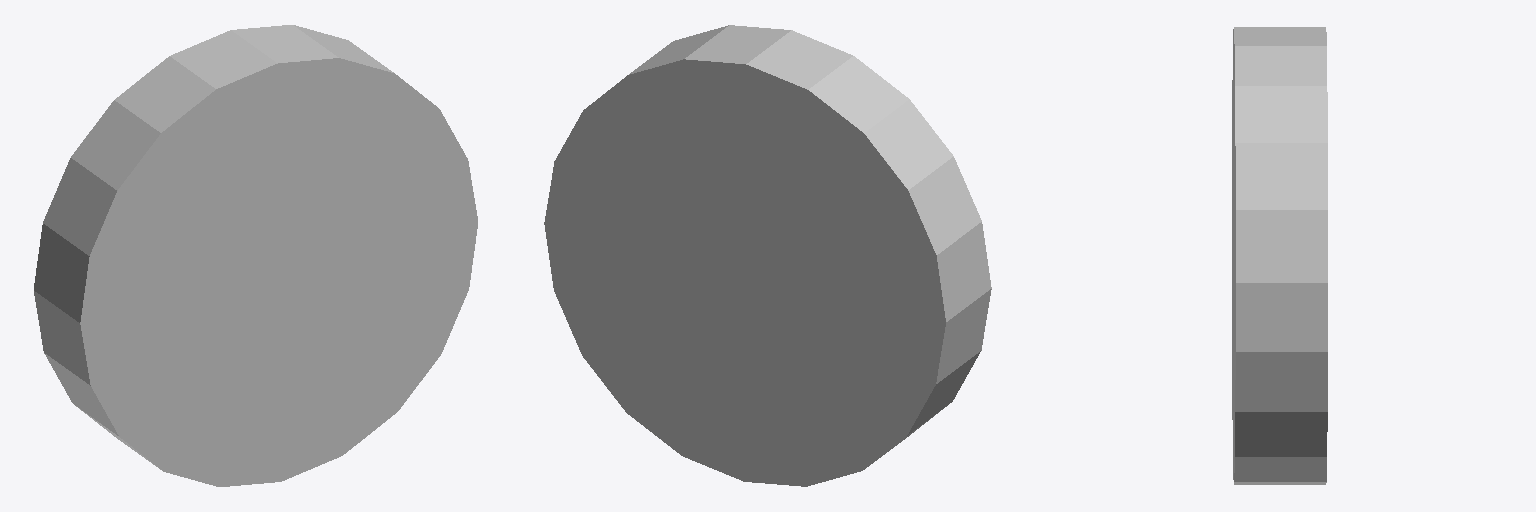
The model's file is coin.obj.
3 renders of one model, left to right at view 1: azimuth 30°, elevation 25°; view 2: azimuth 150°, elevation 25°; view 3: azimuth 270°, elevation 25°, orthographic.
Visible parts, largest first — view 1: pCylinder1; view 2: pCylinder1; view 3: pCylinder1.
Boxes of the visible parts, box(x1,y1,x2,y2) form: pCylinder1: box(34, 25, 477, 486); pCylinder1: box(544, 25, 991, 486); pCylinder1: box(1232, 27, 1327, 484).
Size of the model in its own units: 5.01 by 5 by 1.04.